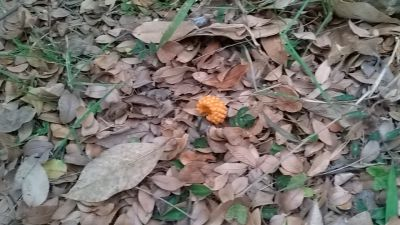eggs: (194, 95, 228, 125)
